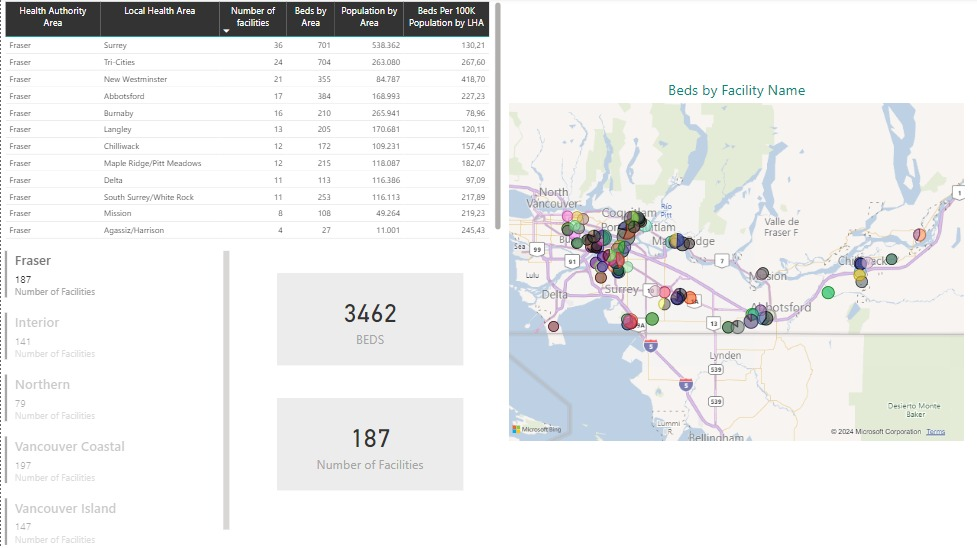

What the dashboard file says about the page in this screenshot:
{"tool":"powerbi","page":{"name":"Page 2","canvas":[1280,720],"ordinal":1},"visuals":[{"type":"map","title":"Beds by Facility Name","fields":{"Y":["MergedData.LATITUDE"],"X":["MergedData.LONGITUDE"],"Size":["Sum(MergedData.BEDS)"],"Series":["MergedData.FACILITY_NAME"]},"box":[660.2,107.5,606.4,477.1],"z":0},{"type":"tableEx","fields":{"Values":["DatabyArea.HEALTH_AUTHORITY1","DatabyArea.LOCAL_HEALTH_AREA","Sum(DatabyArea.COUNT_OF_FACILITIES_BY_AREA)","DatabyArea.BEDS_BY_AREA","Sum(DatabyArea.POPULATION)","Avg(DatabyArea.BEDS_PER_100KP_BY_AREA)"]},"box":[0,0,660.2,325.9],"z":1000},{"type":"card","fields":{"Values":["CountNonNull(MergedData.FACILITY_NAME)"]},"box":[361.2,524.1,243.6,120.9],"z":2000},{"type":"card","fields":{"Values":["Sum(MergedData.BEDS)"]},"box":[361.2,359.5,243.6,120.9],"z":3000},{"type":"multiRowCard","fields":{"Values":["DatabyArea.HEALTH_AUTHORITY1","Sum(DatabyArea.COUNT_OF_FACILITIES_BY_AREA)"]},"box":[0,325.9,304,394.8],"z":4000}]}

Visuals, with their boxes in screenshot pixels (x1, y1, x2, y2), scaled from the page's 1280x720 canvas onto the 977x548 screenshot:
"Beds by Facility Name" map: crop(504, 82, 967, 445)
tableEx - DatabyArea.HEALTH_AUTHORITY1 x DatabyArea.LOCAL_HEALTH_AREA: crop(0, 0, 504, 248)
card - CountNonNull(MergedData.FACILITY_NAME): crop(276, 399, 462, 491)
card - Sum(MergedData.BEDS): crop(276, 274, 462, 366)
multiRowCard - DatabyArea.HEALTH_AUTHORITY1 x Sum(DatabyArea.COUNT_OF_FACILITIES_BY_AREA): crop(0, 248, 232, 547)
